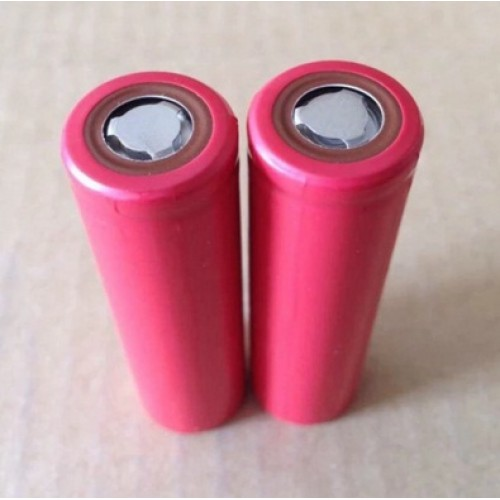Battery: (243, 51, 429, 434), (55, 66, 245, 440)
